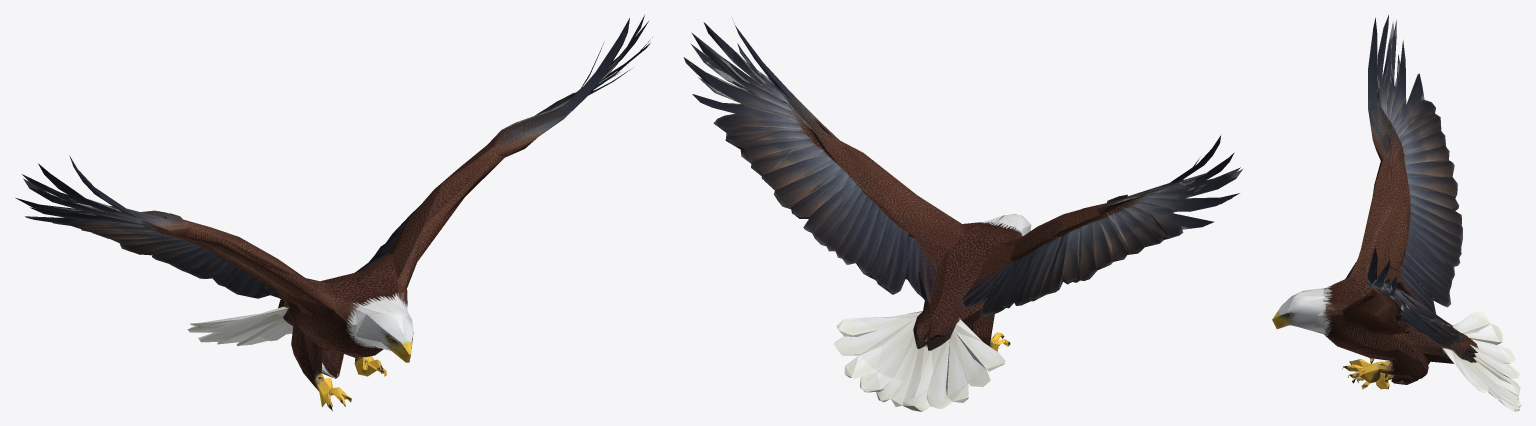
Rendered from eagle.glb.
The picture shows the model from 3 angles, left to right: view 1: azimuth 30°, elevation 25°; view 2: azimuth 150°, elevation 25°; view 3: azimuth 270°, elevation 25°; orthographic projection. The views are drawn at different scales.
Bounding box in the file's own units: 1.9 × 0.9107 × 0.7657.
Materials: 1 (1 with a texture image).
